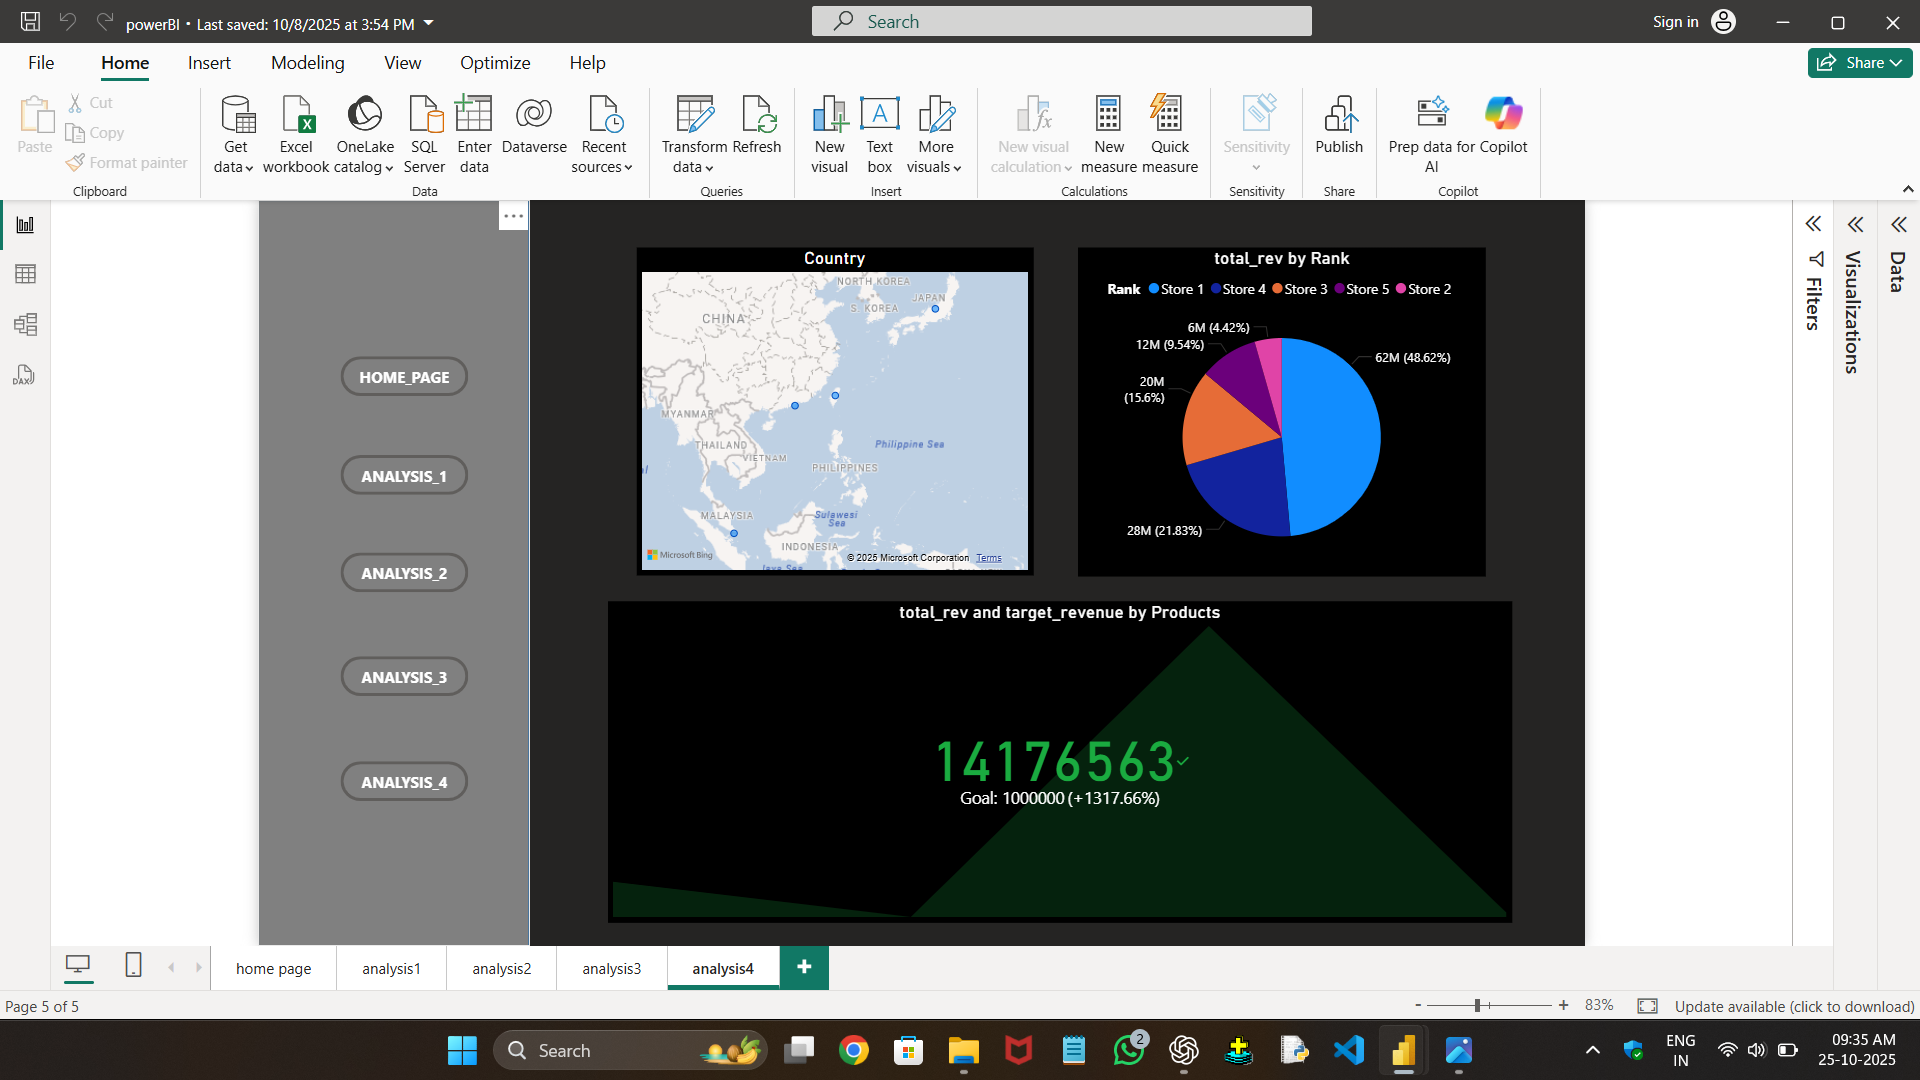

This screenshot's page, from the dashboard's own definition file:
{"tool":"powerbi","page":{"name":" analysis4","canvas":[1280,720],"ordinal":4},"visuals":[{"type":"shape","box":[0,0,262.1,720.4],"z":0},{"type":"actionButton","box":[79.6,150.9,123.5,38.4],"z":1000},{"type":"actionButton","box":[79.6,245.6,123.5,38.4],"z":2000},{"type":"actionButton","box":[79.6,340.3,123.5,38.4],"z":3000},{"type":"actionButton","box":[79.6,440.5,123.5,38.4],"z":4000},{"type":"actionButton","box":[79.6,542,123.5,38.4],"z":5000},{"type":"map","fields":{"Category":["DataSet.Country"]},"box":[365,46.2,382.5,316.2],"z":6000},{"type":"pieChart","fields":{"Category":["DataSet.Rank"],"Y":["DataSet.total_rev"]},"box":[791.2,46.2,393.8,317.5],"z":7000},{"type":"kpi","fields":{"Goal":["DataSet.target_revenue"],"Indicator":["DataSet.total_rev"],"TrendLine":["DataSet.Products"]},"box":[337.5,387.5,872.5,310],"z":7001}]}

Visuals, with their boxes on the page's 1280x720 design canvas (x1, y1, x2, y2). These are canvas units, not pixel positions in the 1920x1080 screenshot, which may show the page scaled, cropped or inside an application window:
shape: x1=0, y1=0, x2=262, y2=720
actionButton: x1=80, y1=151, x2=203, y2=189
actionButton: x1=80, y1=246, x2=203, y2=284
actionButton: x1=80, y1=340, x2=203, y2=379
actionButton: x1=80, y1=440, x2=203, y2=479
actionButton: x1=80, y1=542, x2=203, y2=580
map - DataSet.Country: x1=365, y1=46, x2=748, y2=362
pieChart - DataSet.Rank x DataSet.total_rev: x1=791, y1=46, x2=1185, y2=364
kpi - DataSet.target_revenue x DataSet.total_rev: x1=338, y1=388, x2=1210, y2=698
